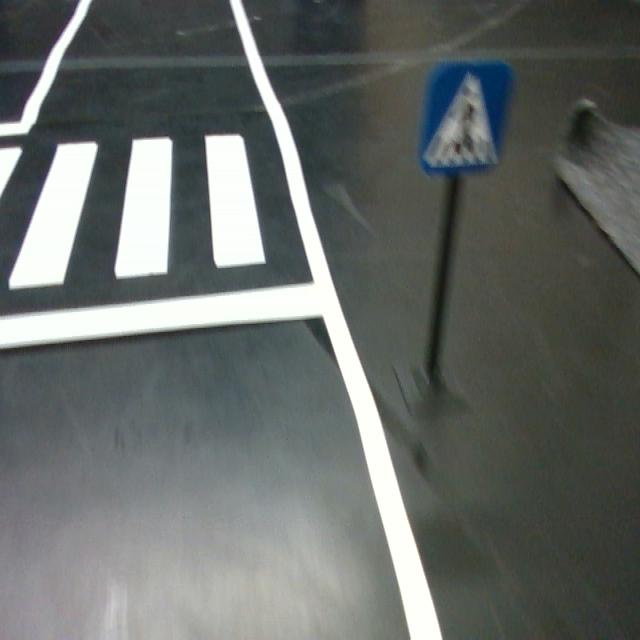crosswalk-sign: (420, 62, 512, 174)
